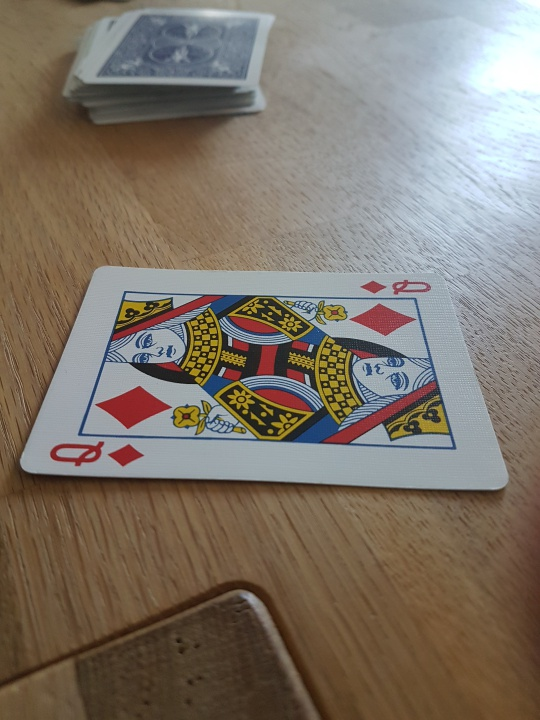queen: (17, 248, 519, 505)
